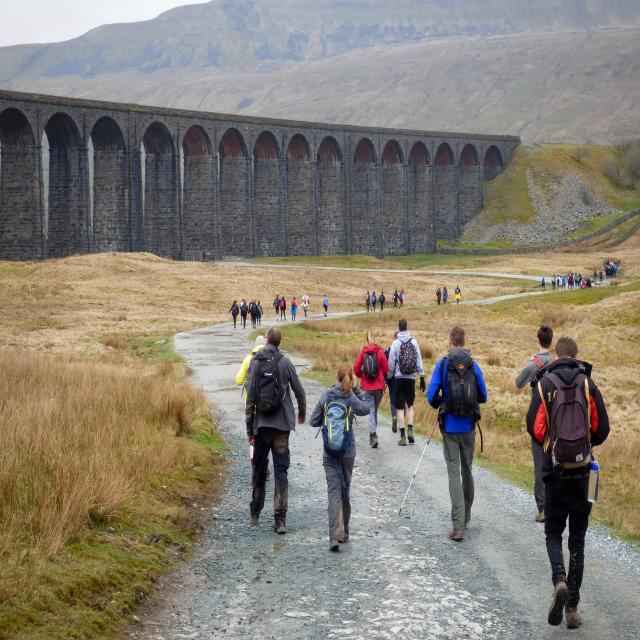backpack: (538, 370, 594, 471), (442, 353, 478, 414), (252, 354, 285, 413), (323, 390, 352, 454), (396, 336, 415, 374), (362, 346, 379, 379)
